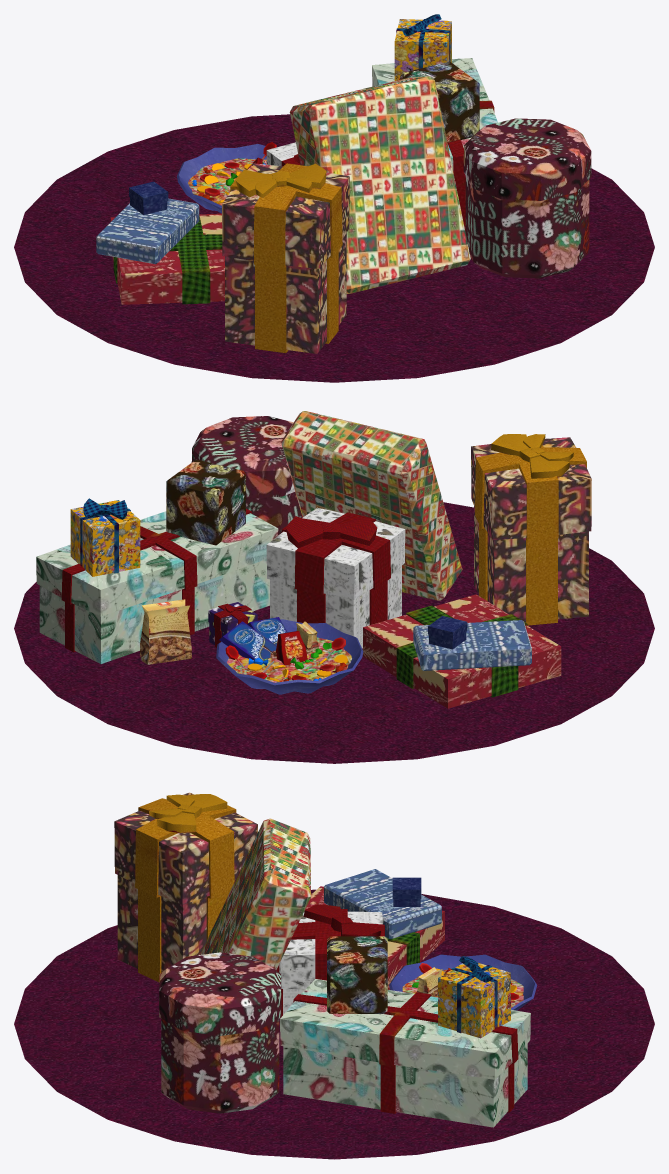
The model's file is cadeaux1.glb.
The picture shows the model from 3 angles, top to bottom: view 1: azimuth 30°, elevation 25°; view 2: azimuth 150°, elevation 25°; view 3: azimuth 270°, elevation 25°; orthographic projection.
Parts seen in each view (by area): view 1: pCylinder26_boden_0, pCylinder26_pack2_0, pCylinder26_rolle_0, pCylinder26_geschenk2_0, pCylinder26_band1_0, pCylinder26_pack1_0, pCylinder26_geschenk1_0, pCylinder26_pack3_0, pCylinder26_geschenk5_0, pCylinder26_schleifen_0, pCylinder26_schale_0, pCylinder26_geschenk4_0 (+2 smaller); view 2: pCylinder26_boden_0, pCylinder26_band1_0, pCylinder26_pack2_0, pCylinder26_geschenk4_0, pCylinder26_geschenk2_0, pCylinder26_geschenk3_0, pCylinder26_geschenk1_0, pCylinder26_rolle_0, pCylinder26_pack3_0, pCylinder26_schleifen_0, pCylinder26_pack1_0, pCylinder26_geschenk5_0 (+8 smaller); view 3: pCylinder26_boden_0, pCylinder26_geschenk4_0, pCylinder26_rolle_0, pCylinder26_band1_0, pCylinder26_geschenk2_0, pCylinder26_pack2_0, pCylinder26_pack3_0, pCylinder26_pack1_0, pCylinder26_geschenk5_0, pCylinder26_schleifen_0, pCylinder26_geschenk3_0, pCylinder26_schale_0 (+2 smaller).
Boxes of the visible parts, <box> form: pCylinder26_boden_0: <box>14,114,654,382</box>; pCylinder26_pack2_0: <box>289,76,470,293</box>; pCylinder26_rolle_0: <box>463,118,591,278</box>; pCylinder26_geschenk2_0: <box>222,163,349,353</box>; pCylinder26_band1_0: <box>113,19,494,353</box>; pCylinder26_pack1_0: <box>96,198,199,264</box>; pCylinder26_geschenk1_0: <box>110,213,224,304</box>; pCylinder26_pack3_0: <box>400,61,479,142</box>; pCylinder26_geschenk5_0: <box>394,19,451,80</box>; pCylinder26_schleifen_0: <box>235,14,441,197</box>; pCylinder26_schale_0: <box>177,144,266,213</box>; pCylinder26_geschenk4_0: <box>372,58,497,170</box>; pCylinder26_boden_0: <box>14,502,654,763</box>; pCylinder26_band1_0: <box>61,445,586,697</box>; pCylinder26_pack2_0: <box>281,411,462,600</box>; pCylinder26_geschenk4_0: <box>36,511,278,663</box>; pCylinder26_geschenk2_0: <box>471,437,591,622</box>; pCylinder26_geschenk3_0: <box>266,507,405,648</box>; pCylinder26_geschenk1_0: <box>363,594,561,708</box>; pCylinder26_rolle_0: <box>191,416,302,535</box>; pCylinder26_pack3_0: <box>166,459,245,545</box>; pCylinder26_schleifen_0: <box>83,434,573,612</box>; pCylinder26_pack1_0: <box>413,620,531,670</box>; pCylinder26_geschenk5_0: <box>70,500,140,576</box>; pCylinder26_boden_0: <box>14,889,654,1159</box>; pCylinder26_geschenk4_0: <box>280,979,530,1127</box>; pCylinder26_rolle_0: <box>159,952,281,1113</box>; pCylinder26_band1_0: <box>135,798,518,1113</box>; pCylinder26_geschenk2_0: <box>114,792,257,972</box>; pCylinder26_pack2_0: <box>200,818,311,969</box>; pCylinder26_pack3_0: <box>327,936,387,1013</box>; pCylinder26_pack1_0: <box>324,869,441,938</box>; pCylinder26_geschenk5_0: <box>438,963,510,1038</box>; pCylinder26_schleifen_0: <box>149,794,493,982</box>; pCylinder26_geschenk3_0: <box>279,911,382,1014</box>; pCylinder26_schale_0: <box>389,954,537,1010</box>.
Bounding box in the file's own units: 55.09 × 17.25 × 55.09.
22 materials, 21 textured.
